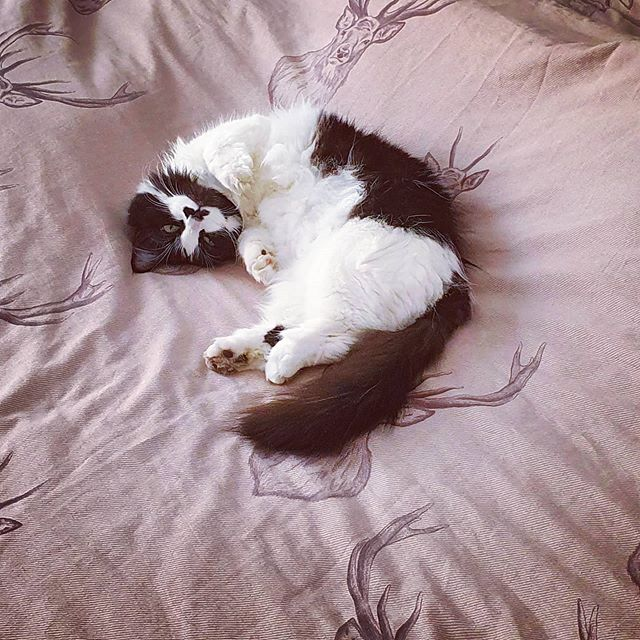cat: (115, 168, 247, 278)
